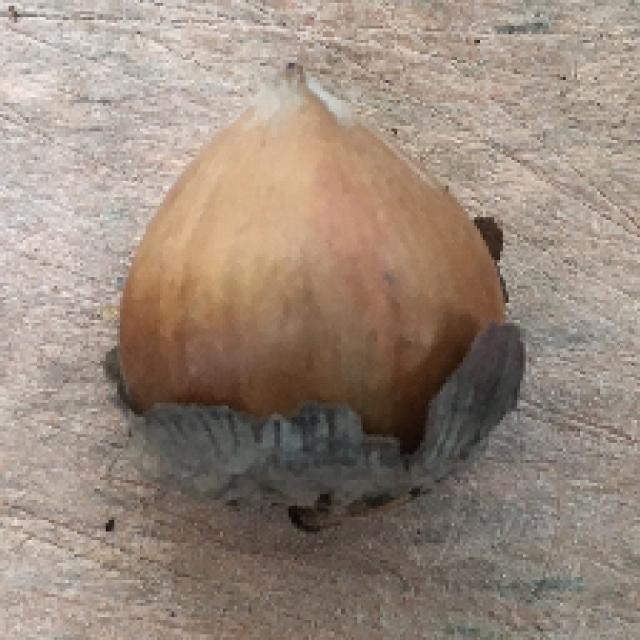damagedHazelnut: (112, 60, 525, 511)
